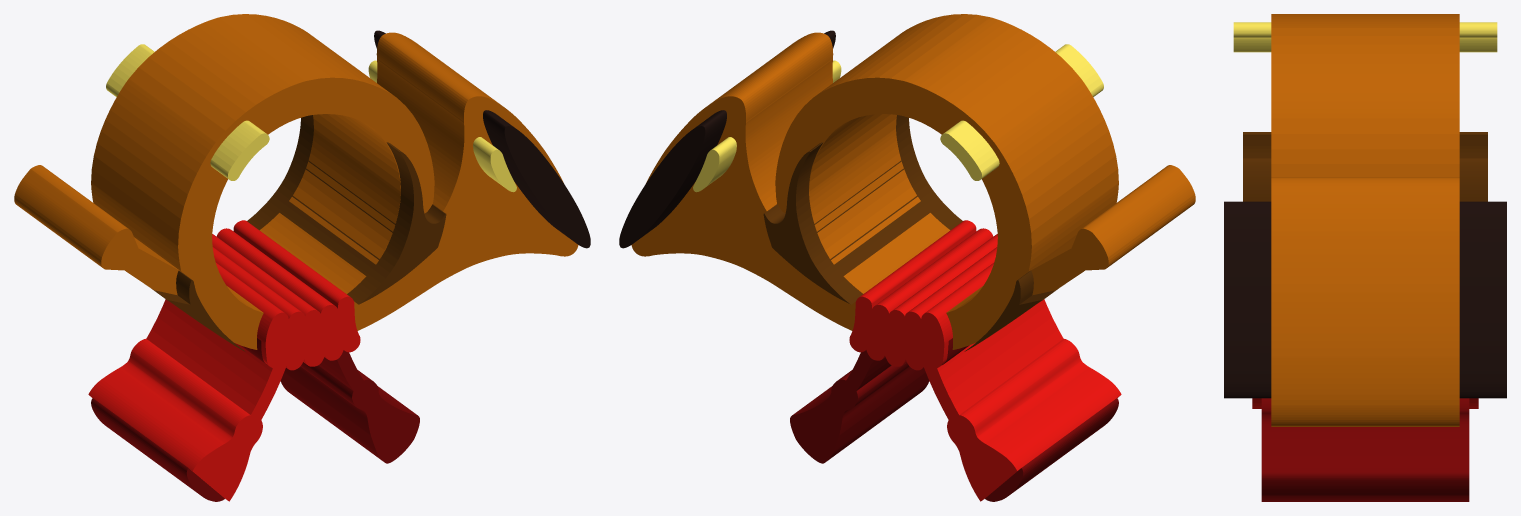
3 views of the same model, side by side, from view 1: azimuth 30°, elevation 25°; view 2: azimuth 150°, elevation 25°; view 3: azimuth 270°, elevation 25° (orthographic). The views are drawn at different scales.
Visible parts, largest first — view 1: U+1F4EF_layer00_obj00, U+1F4EF_layer00_obj02, U+1F4EF_layer02_obj01, U+1F4EF_layer02_obj02, U+1F4EF_layer03_obj01, U+1F4EF_layer00_obj01, U+1F4EF_layer02_obj00, U+1F4EF_layer01_obj03, U+1F4EF_layer05_obj00, U+1F4EF_layer04_obj00, U+1F4EF_layer01_obj01, U+1F4EF_layer03_obj00 (+2 smaller); view 2: U+1F4EF_layer00_obj00, U+1F4EF_layer00_obj02, U+1F4EF_layer02_obj01, U+1F4EF_layer02_obj02, U+1F4EF_layer03_obj01, U+1F4EF_layer00_obj01, U+1F4EF_layer02_obj00, U+1F4EF_layer01_obj03, U+1F4EF_layer05_obj00, U+1F4EF_layer04_obj00, U+1F4EF_layer01_obj01, U+1F4EF_layer03_obj00 (+2 smaller); view 3: U+1F4EF_layer00_obj02, U+1F4EF_layer00_obj00, U+1F4EF_layer05_obj00, U+1F4EF_layer01_obj03, U+1F4EF_layer03_obj01, U+1F4EF_layer04_obj00, U+1F4EF_layer03_obj00.
Boxes of the visible parts, x1,y1,x2,y2 form: U+1F4EF_layer00_obj00: (91, 14, 434, 349); U+1F4EF_layer00_obj02: (354, 32, 578, 330); U+1F4EF_layer02_obj01: (88, 339, 262, 501); U+1F4EF_layer02_obj02: (212, 220, 360, 370); U+1F4EF_layer03_obj01: (247, 115, 446, 304); U+1F4EF_layer00_obj01: (14, 165, 231, 337); U+1F4EF_layer02_obj00: (146, 299, 294, 439); U+1F4EF_layer01_obj03: (280, 362, 419, 463); U+1F4EF_layer05_obj00: (374, 30, 590, 248); U+1F4EF_layer04_obj00: (106, 44, 269, 180); U+1F4EF_layer01_obj01: (91, 398, 224, 501); U+1F4EF_layer03_obj00: (152, 270, 245, 351); U+1F4EF_layer00_obj00: (775, 14, 1118, 349); U+1F4EF_layer00_obj02: (631, 32, 855, 330); U+1F4EF_layer02_obj01: (947, 339, 1121, 501); U+1F4EF_layer02_obj02: (849, 220, 997, 370); U+1F4EF_layer03_obj01: (763, 115, 962, 304); U+1F4EF_layer00_obj01: (974, 165, 1195, 337); U+1F4EF_layer02_obj00: (915, 299, 1063, 438); U+1F4EF_layer01_obj03: (790, 362, 929, 463); U+1F4EF_layer05_obj00: (619, 30, 835, 248); U+1F4EF_layer04_obj00: (940, 44, 1103, 180); U+1F4EF_layer01_obj01: (985, 398, 1118, 501); U+1F4EF_layer03_obj00: (964, 270, 1057, 351); U+1F4EF_layer00_obj02: (1271, 177, 1459, 426); U+1F4EF_layer00_obj00: (1271, 14, 1459, 176); U+1F4EF_layer05_obj00: (1224, 201, 1506, 398); U+1F4EF_layer01_obj03: (1261, 398, 1469, 501); U+1F4EF_layer03_obj01: (1243, 158, 1487, 201); U+1F4EF_layer04_obj00: (1233, 22, 1497, 52); U+1F4EF_layer03_obj00: (1243, 132, 1487, 158).
Size of the model in its own units: 0.3174 by 0.2524 by 0.15.
